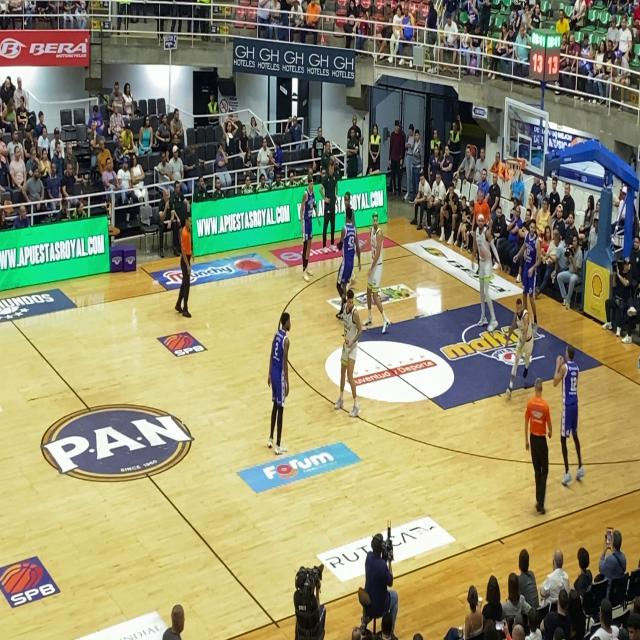referee: (515, 369, 557, 522), (164, 210, 199, 330)
team1: (498, 282, 548, 394), (466, 209, 504, 339), (335, 274, 364, 436), (364, 205, 397, 342)
team2: (258, 295, 294, 456), (553, 338, 586, 487), (520, 203, 548, 337), (293, 171, 321, 277), (331, 196, 360, 294)
ubasket: (506, 156, 524, 184)
